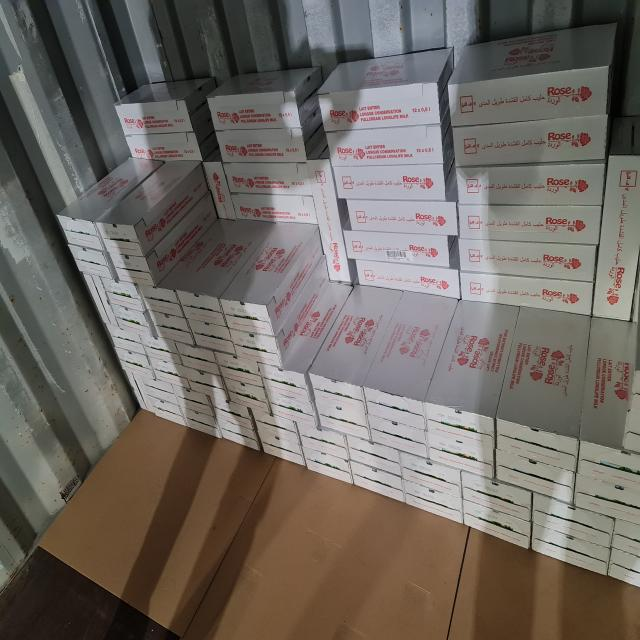Carton: (56, 74, 640, 593), (115, 77, 213, 104)
